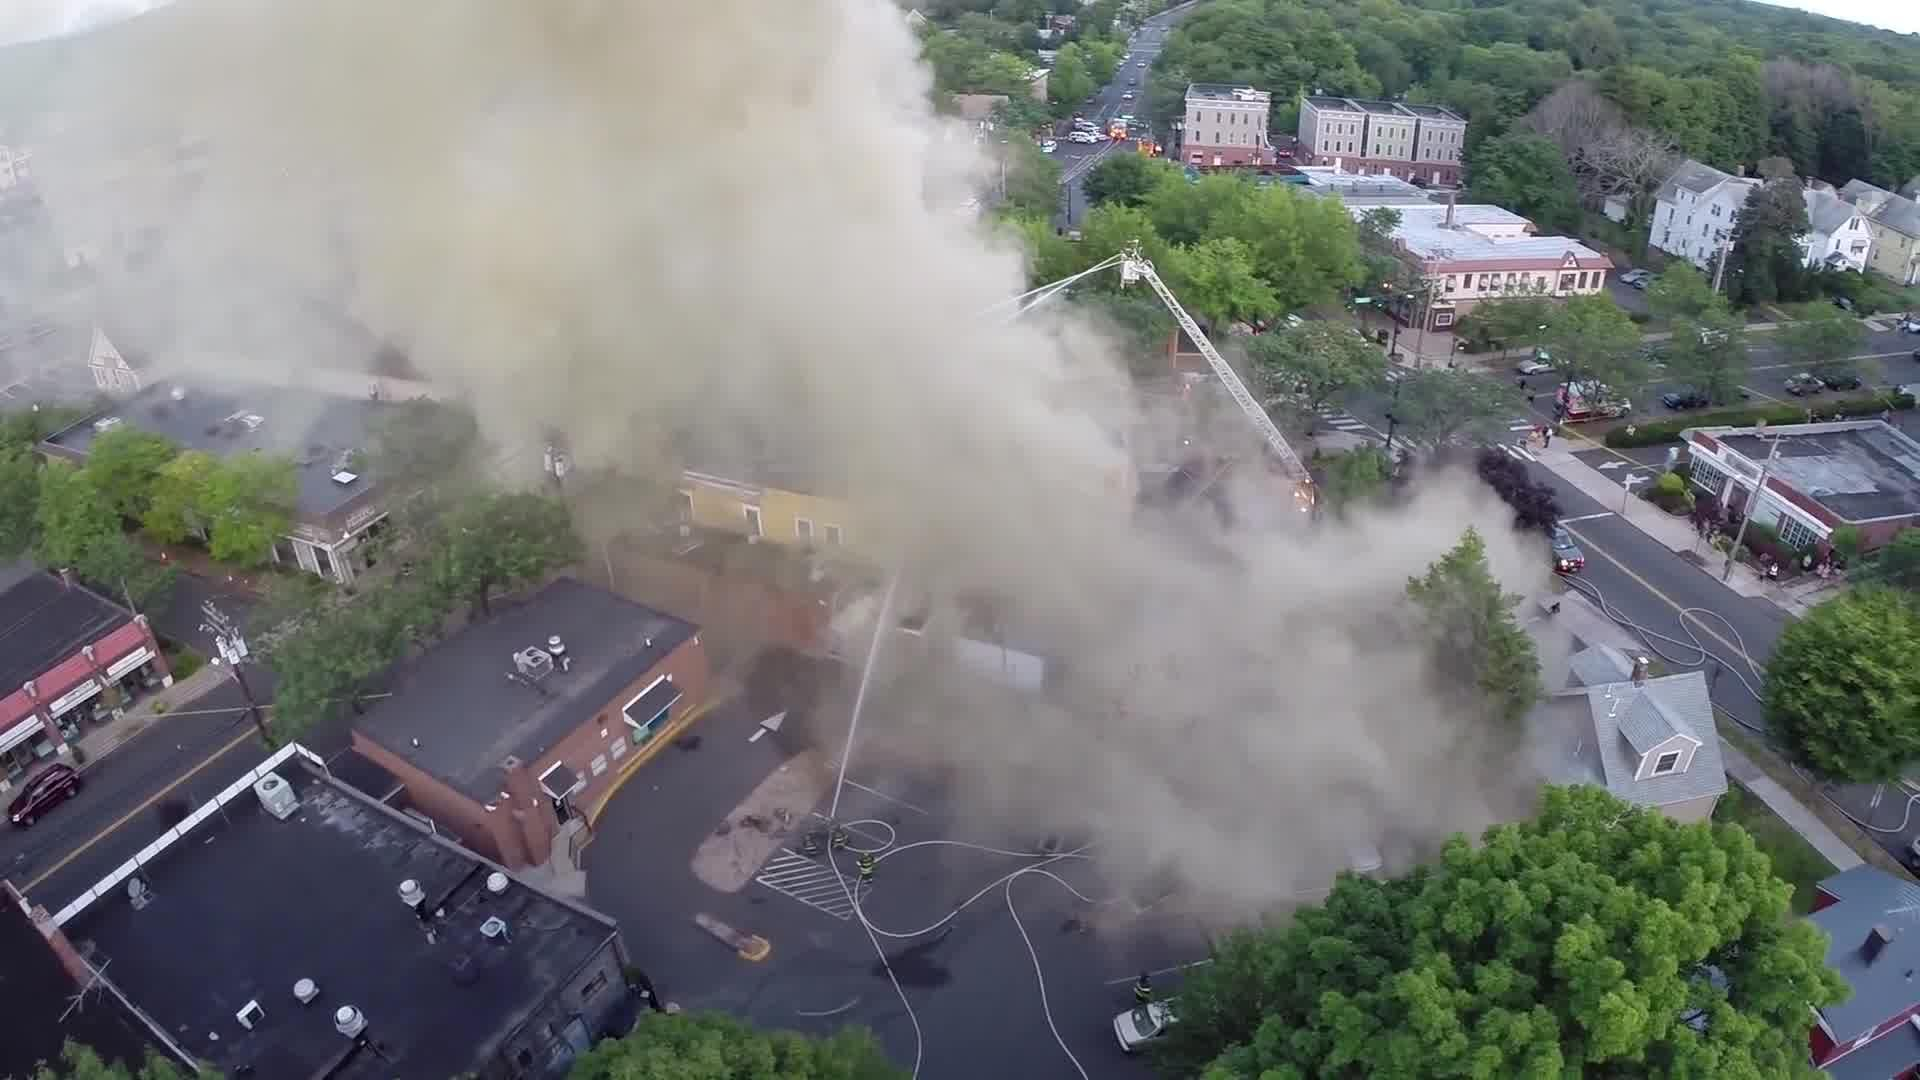smoke: (116, 0, 943, 376), (1043, 611, 1429, 873), (873, 406, 1121, 579)
